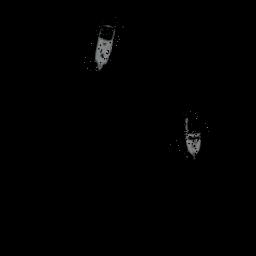boat: (80, 12, 126, 77), (167, 104, 214, 162)
